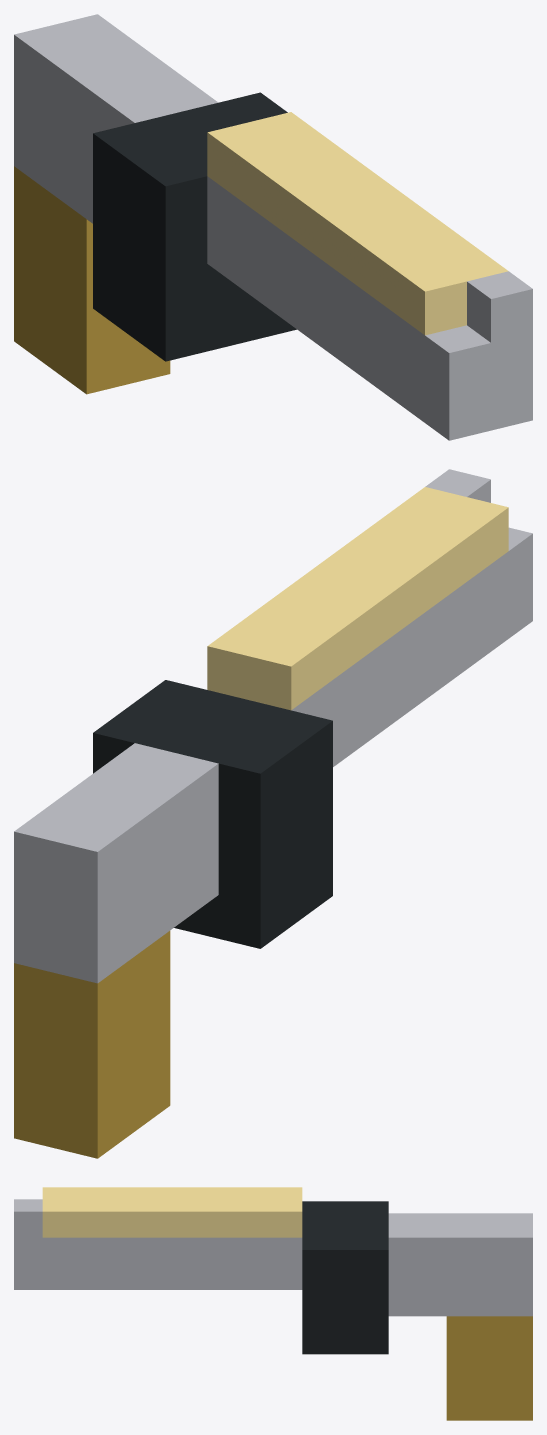
The model's file is vox_revolver_star.glb.
3 renders of one model, top to bottom at view 1: azimuth 30°, elevation 25°; view 2: azimuth 150°, elevation 25°; view 3: azimuth 270°, elevation 25°, orthographic. The views are drawn at different scales.
Parts seen in each view (by area): view 1: vox_revolver_star; view 2: vox_revolver_star; view 3: vox_revolver_star.
Part boxes in pixels (left/top/right/bottom): vox_revolver_star: left=14, top=14, right=532, bottom=440; vox_revolver_star: left=14, top=469, right=532, bottom=1158; vox_revolver_star: left=14, top=1187, right=532, bottom=1420.
Size of the model in its own units: 0.08 by 0.16 by 0.36.
